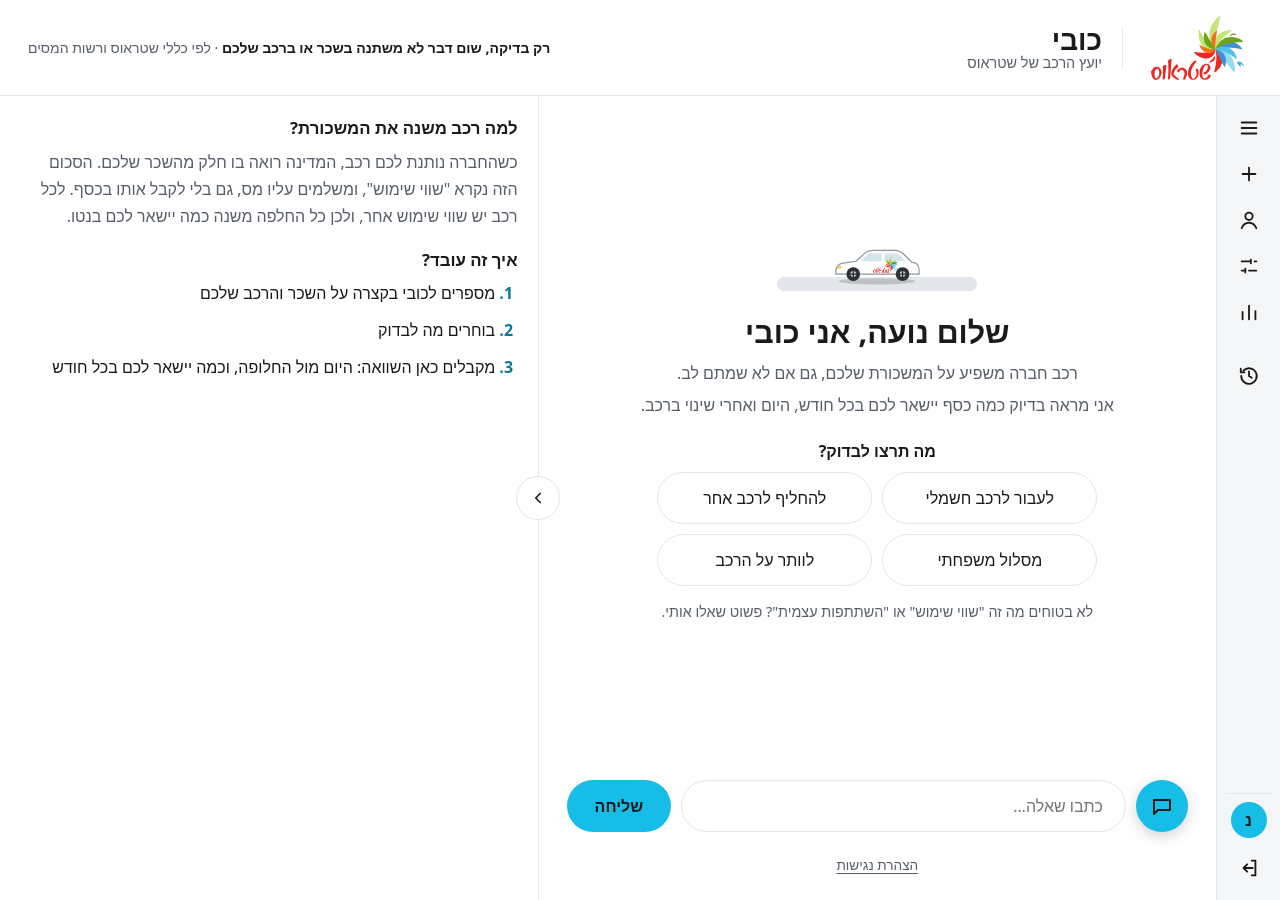
Test case: "פנייה" in the profile › three options with clear labels; plural until chosen
What coordinates should you click on to do the following:
click the 2nd button named "פרופיל"
I would click on:
 (1248, 220)
Its box is 1225,198 -> 1272,242.
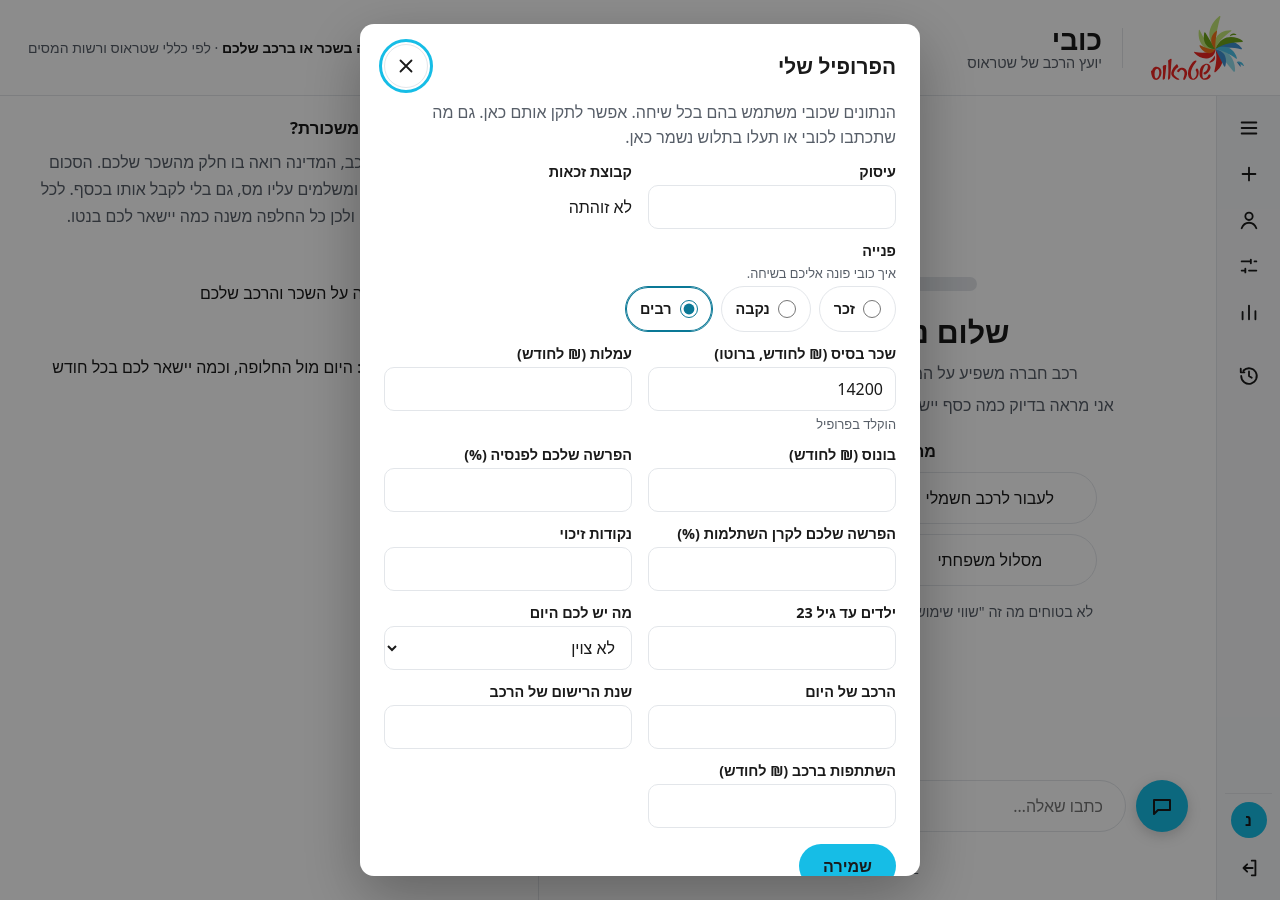
expect the radio button labelled "רבים" is checked: met, box 680,287 -> 698,331
